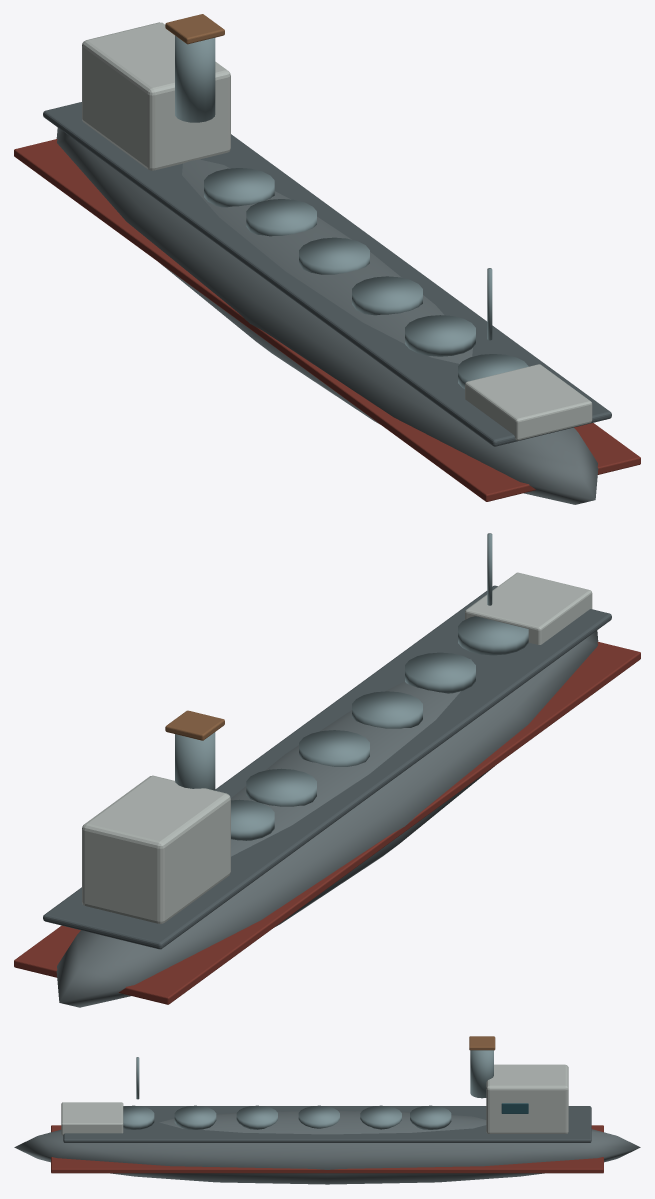
The model's file is tanker-lod3.glb.
The picture shows the model from 3 angles, top to bottom: view 1: azimuth 30°, elevation 25°; view 2: azimuth 150°, elevation 25°; view 3: azimuth 270°, elevation 25°; orthographic projection. The views are drawn at different scales.
Visible parts, largest first — view 1: tanker-hull, tanker-deck, aft-bridge, tanker-waterline, forecastle, funnel-stack, cargo-tank-1, cargo-tank-5, cargo-tank-2, cargo-tank-4, cargo-tank-3, cargo-tank-0 (+1 smaller); view 2: tanker-hull, tanker-deck, aft-bridge, tanker-waterline, forecastle, cargo-tank-1, cargo-tank-4, cargo-tank-2, cargo-tank-3, cargo-tank-0, funnel-stack, cargo-tank-5 (+1 smaller); view 3: tanker-hull, tanker-deck, aft-bridge, tanker-waterline, forecastle, funnel-stack, cargo-tank-1, cargo-tank-5, cargo-tank-2, cargo-tank-4, cargo-tank-3, cargo-tank-0 (+2 smaller).
Boxes of the visible parts, bbox=[...] form: tanker-hull: bbox=[56, 128, 598, 504]; tanker-deck: bbox=[43, 102, 611, 446]; aft-bridge: bbox=[82, 22, 230, 170]; tanker-waterline: bbox=[14, 139, 640, 501]; forecastle: bbox=[465, 364, 592, 440]; funnel-stack: bbox=[175, 35, 215, 122]; cargo-tank-1: bbox=[405, 315, 475, 356]; cargo-tank-5: bbox=[204, 168, 274, 207]; cargo-tank-2: bbox=[352, 276, 422, 315]; cargo-tank-4: bbox=[246, 199, 316, 236]; cargo-tank-3: bbox=[299, 237, 369, 274]; cargo-tank-0: bbox=[458, 354, 528, 388]; tanker-hull: bbox=[56, 630, 598, 1007]; tanker-deck: bbox=[43, 585, 611, 949]; aft-bridge: bbox=[82, 775, 230, 923]; tanker-waterline: bbox=[14, 642, 640, 1004]; forecastle: bbox=[465, 572, 592, 644]; cargo-tank-1: bbox=[405, 652, 475, 693]; cargo-tank-4: bbox=[246, 768, 316, 806]; cargo-tank-2: bbox=[352, 691, 422, 728]; cargo-tank-3: bbox=[299, 730, 369, 766]; cargo-tank-0: bbox=[458, 616, 528, 655]; funnel-stack: bbox=[175, 732, 215, 790]; cargo-tank-5: bbox=[231, 799, 274, 840]; tanker-hull: bbox=[14, 1110, 640, 1184]; tanker-deck: bbox=[63, 1106, 591, 1142]; aft-bridge: bbox=[486, 1064, 568, 1133]; tanker-waterline: bbox=[51, 1125, 603, 1173]; forecastle: bbox=[61, 1102, 123, 1135]; funnel-stack: bbox=[470, 1050, 493, 1098]; cargo-tank-1: bbox=[174, 1105, 216, 1129]; cargo-tank-5: bbox=[410, 1105, 451, 1129]; cargo-tank-2: bbox=[236, 1105, 277, 1129]; cargo-tank-4: bbox=[360, 1105, 401, 1129]; cargo-tank-3: bbox=[298, 1105, 339, 1128]; cargo-tank-0: bbox=[123, 1105, 154, 1129].
Bounding box in the file's own units: 5.1 × 7.28 × 30.4.
